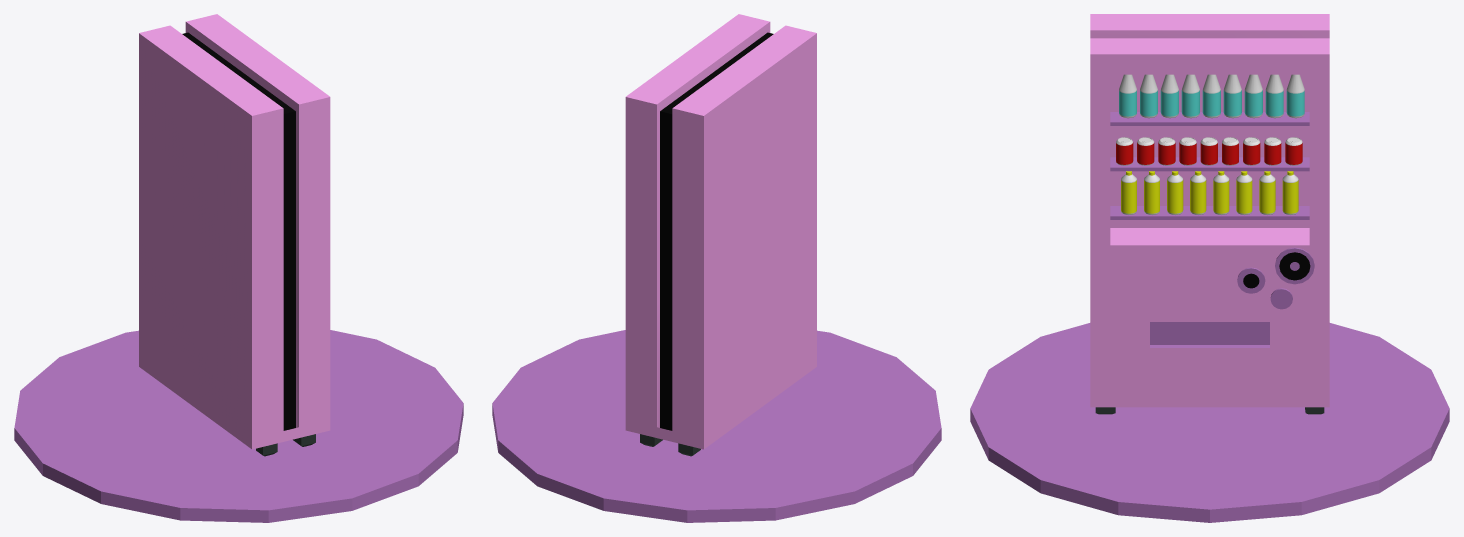
Rendered from stylized_vendind_machine2.fbx.
3 renders of one model, left to right at view 1: azimuth 30°, elevation 25°; view 2: azimuth 150°, elevation 25°; view 3: azimuth 270°, elevation 25°, orthographic. The views are drawn at different scales.
Parts seen in each view (by area): view 1: Vending Machine, Floor; view 2: Vending Machine, Floor; view 3: Vending Machine, Floor, Shelf, buttons.
Boxes of the visible parts, bbox=[...] form: Vending Machine: bbox=[139, 14, 330, 449]; Floor: bbox=[14, 330, 463, 522]; Vending Machine: bbox=[625, 14, 816, 449]; Floor: bbox=[492, 330, 941, 522]; Vending Machine: bbox=[1090, 14, 1329, 407]; Floor: bbox=[970, 323, 1449, 522]; Shelf: bbox=[1110, 112, 1309, 347]; buttons: bbox=[1237, 247, 1314, 309].
Bounding box in the file's own units: 200 × 177 × 200.
